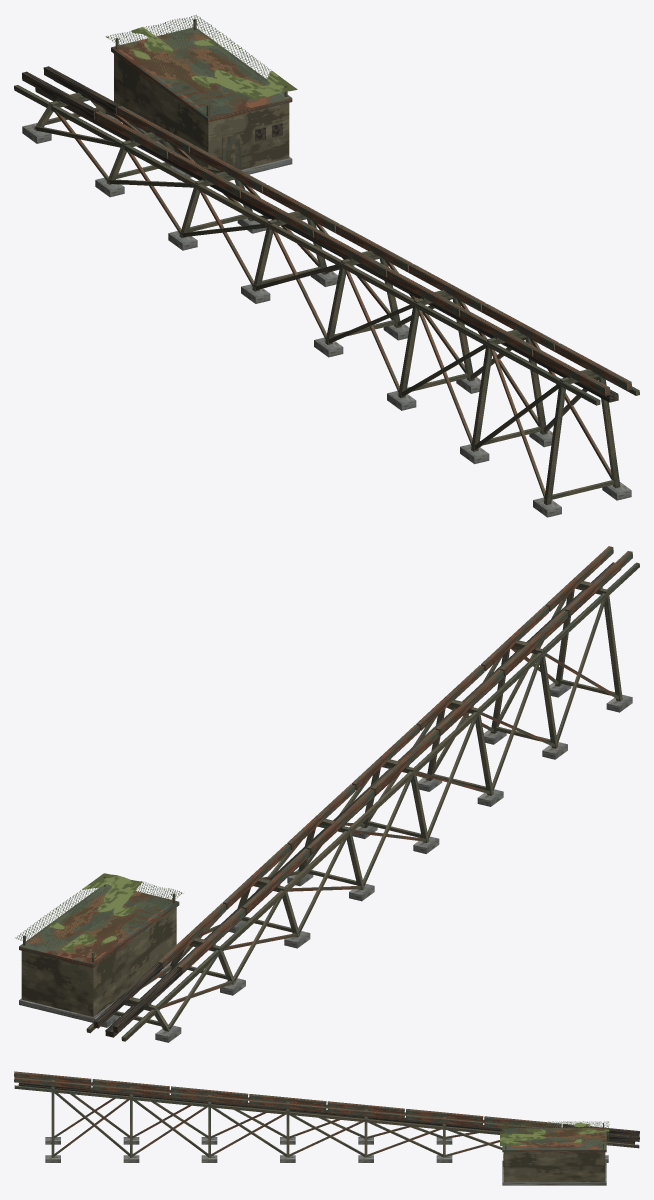
Rendered from fi103-ramp-own.glb.
3 renders of one model, top to bottom at view 1: azimuth 30°, elevation 25°; view 2: azimuth 150°, elevation 25°; view 3: azimuth 270°, elevation 25°, orthographic. The views are drawn at different scales.
Visible parts, largest first — view 1: RailShell, SteelBays, ControlHut, CamouflageNet, ConcreteFootings; view 2: RailShell, SteelBays, ControlHut, CamouflageNet, ConcreteFootings; view 3: RailShell, ControlHut, SteelBays, CamouflageNet, ConcreteFootings.
Part boxes in pixels (bbox=[...]): RailShell: bbox=[14, 66, 639, 405]; SteelBays: bbox=[34, 97, 620, 504]; ControlHut: bbox=[111, 27, 292, 174]; CamouflageNet: bbox=[105, 14, 297, 111]; ConcreteFootings: bbox=[22, 114, 631, 517]; RailShell: bbox=[86, 546, 639, 1041]; SteelBays: bbox=[113, 586, 622, 1031]; ControlHut: bbox=[19, 884, 179, 1022]; CamouflageNet: bbox=[15, 873, 183, 957]; ConcreteFootings: bbox=[94, 682, 632, 1042]; RailShell: bbox=[14, 1071, 639, 1148]; ControlHut: bbox=[502, 1128, 606, 1185]; SteelBays: bbox=[51, 1087, 502, 1157]; CamouflageNet: bbox=[500, 1121, 609, 1145]; ConcreteFootings: bbox=[45, 1137, 608, 1162].
Size of what is drawn, in the model's own units: 8.28 by 6.5 by 48.
2 materials, 2 textured.
